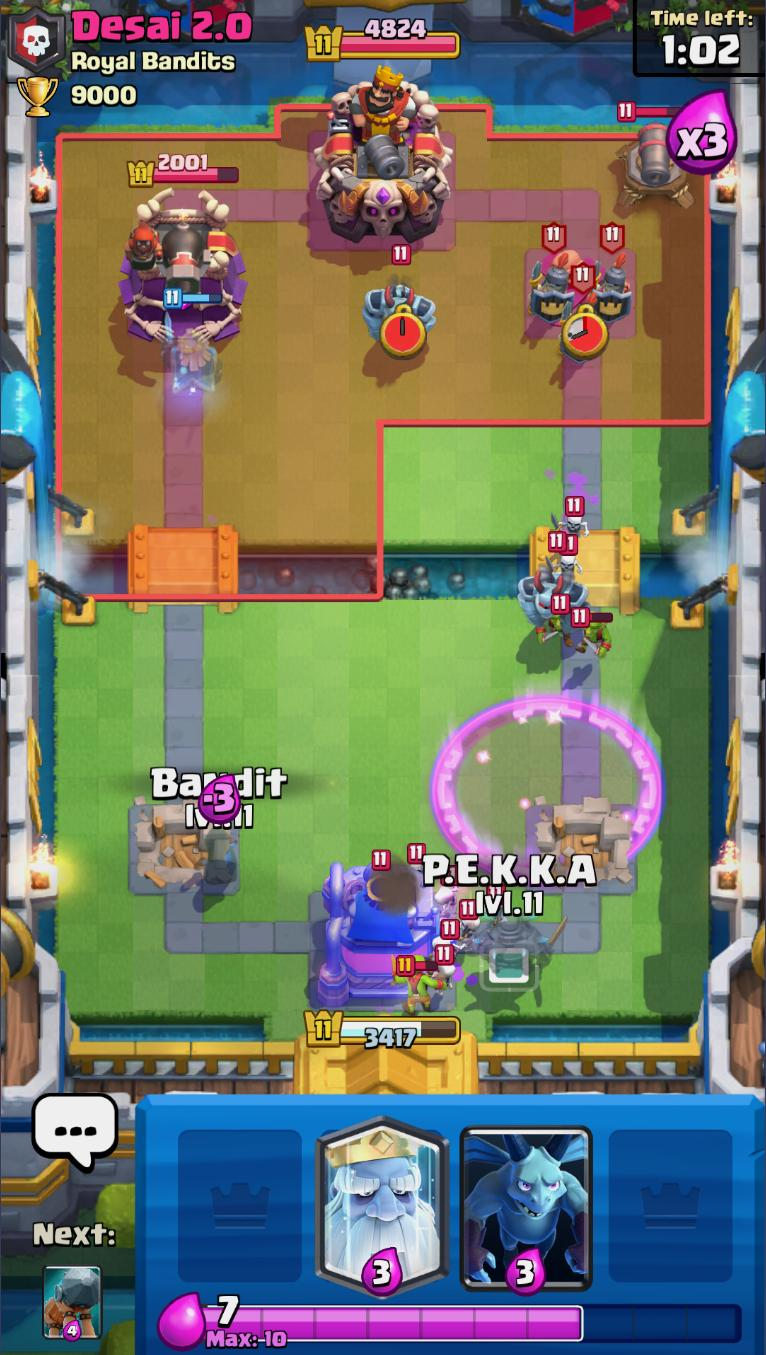BattleRamNext: (41, 1261, 101, 1346)
Cannon: (614, 99, 696, 213)
Cannoneer: (127, 216, 207, 300)
Elixir: (203, 1296, 743, 1346)
Empty: (167, 1094, 313, 1294), (596, 1096, 741, 1293)
EnemyTower: (121, 187, 250, 343)
EnemyTowerBrocken: (523, 244, 641, 344)
Goblin: (390, 953, 447, 1014), (571, 607, 614, 659), (534, 594, 574, 646)
Guards: (531, 223, 574, 324), (591, 221, 633, 320), (561, 264, 599, 327)
KingTower: (314, 77, 456, 246)
MegaMinion: (360, 246, 439, 353), (519, 530, 590, 641)
MinionsDeck: (456, 1096, 597, 1293)
MyKingTower: (319, 860, 457, 1011)
MyPrincessTowerBrocken: (527, 793, 641, 890), (127, 797, 236, 890)
MyRoyaleGhost: (159, 284, 226, 401)
Rage: (433, 697, 664, 887)
RoyaleGhostDeck: (310, 1094, 456, 1299)
Skeleton: (550, 497, 590, 540), (454, 899, 483, 947), (433, 946, 460, 997), (433, 866, 460, 914), (551, 536, 581, 574), (430, 920, 461, 950)
TowerPrincessHP: (129, 153, 241, 189)
